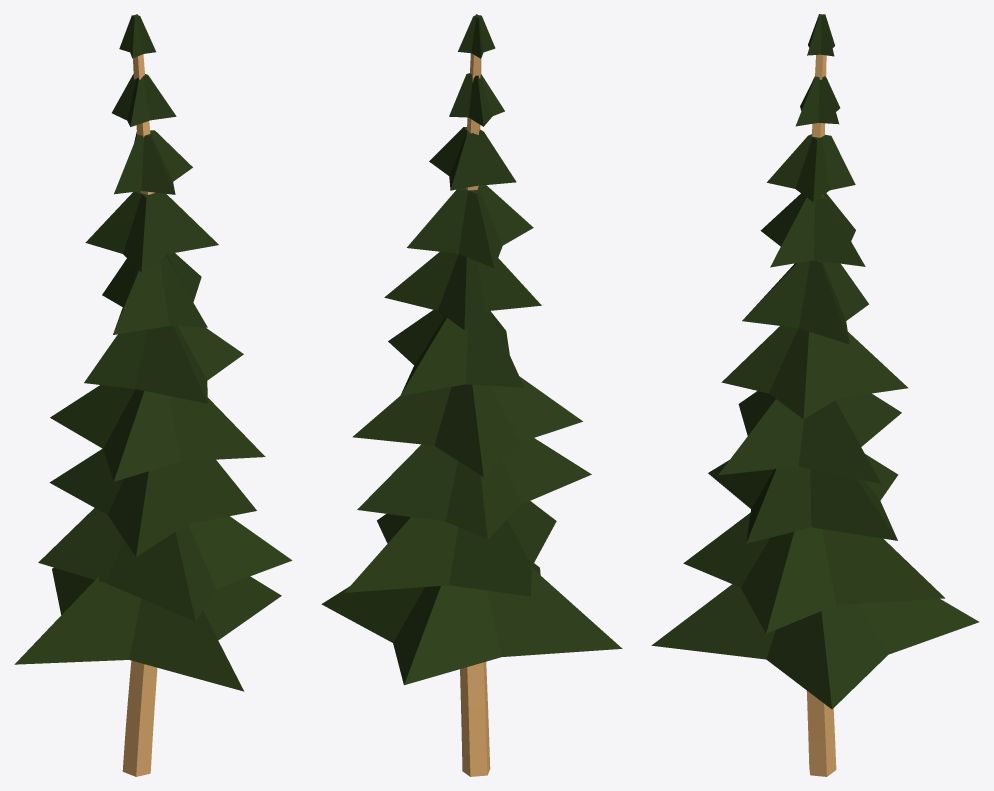
The model's file is spruce4.obj.
3 views of the same model, side by side, from view 1: azimuth 30°, elevation 25°; view 2: azimuth 150°, elevation 25°; view 3: azimuth 270°, elevation 25° (orthographic).
Parts seen in each view (by area): view 1: main_spruce.004_leaf_darker, main_spruce.004_wood; view 2: main_spruce.004_leaf_darker, main_spruce.004_wood; view 3: main_spruce.004_leaf_darker, main_spruce.004_wood.
Part boxes in pixels (x1,y1,x2,y2): main_spruce.004_leaf_darker: (14, 14, 292, 691); main_spruce.004_wood: (122, 54, 157, 776); main_spruce.004_leaf_darker: (321, 14, 622, 685); main_spruce.004_wood: (460, 53, 490, 776); main_spruce.004_leaf_darker: (651, 14, 979, 709); main_spruce.004_wood: (806, 54, 836, 776).
Bounding box in the file's own units: 3.11 × 7.91 × 3.12.
